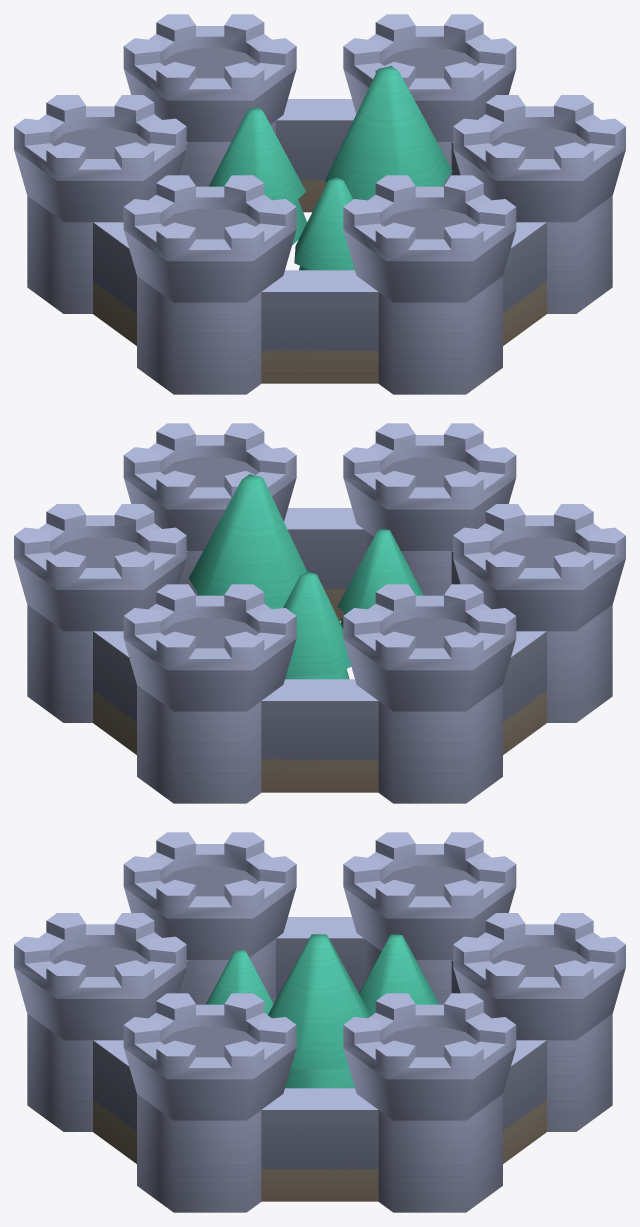
File: hx_building-walls.glb
The picture shows the model from 3 angles, top to bottom: view 1: azimuth 30°, elevation 25°; view 2: azimuth 150°, elevation 25°; view 3: azimuth 270°, elevation 25°; orthographic projection.
Size of the model in its own units: 1.04 by 0.437 by 1.21.
1 material, 1 textured.
